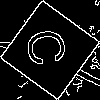C: (25, 25, 76, 68)
